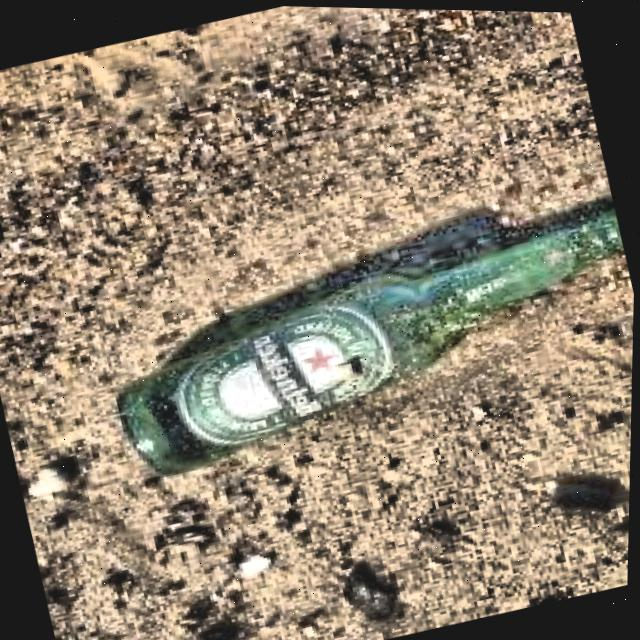glass: (118, 223, 613, 481)
